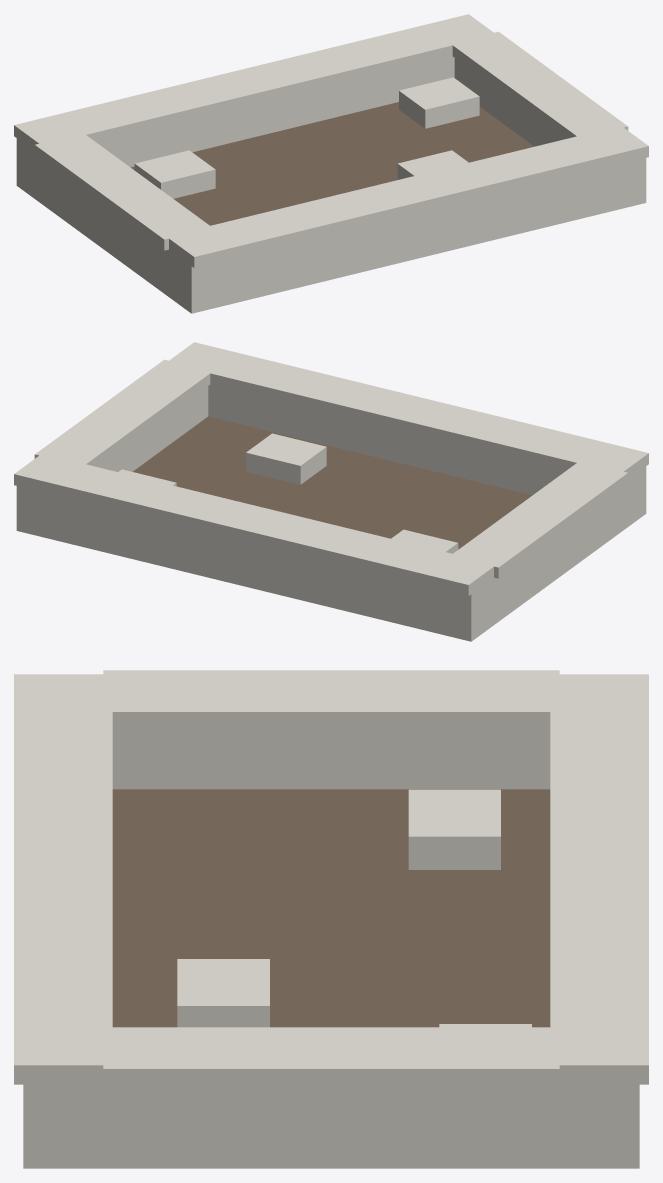
Rendered from botanical-glasshouse-and-palm-house-botanical-glasshou-2814e0aa__38556.glb.
The picture shows the model from 3 angles, top to bottom: view 1: azimuth 30°, elevation 25°; view 2: azimuth 150°, elevation 25°; view 3: azimuth 270°, elevation 25°; orthographic projection. The views are drawn at different scales.
Parts seen in each view (by area): view 1: botanical-glasshouse-and-palm-house-sunken-fern-pit; view 2: botanical-glasshouse-and-palm-house-sunken-fern-pit; view 3: botanical-glasshouse-and-palm-house-sunken-fern-pit.
Part boxes in pixels (<box>): botanical-glasshouse-and-palm-house-sunken-fern-pit: <box>14,14,648,313</box>; botanical-glasshouse-and-palm-house-sunken-fern-pit: <box>14,342,648,641</box>; botanical-glasshouse-and-palm-house-sunken-fern-pit: <box>14,670,648,1168</box>.
Bounding box in the file's own units: 3.06 × 0.3699 × 2.06.
